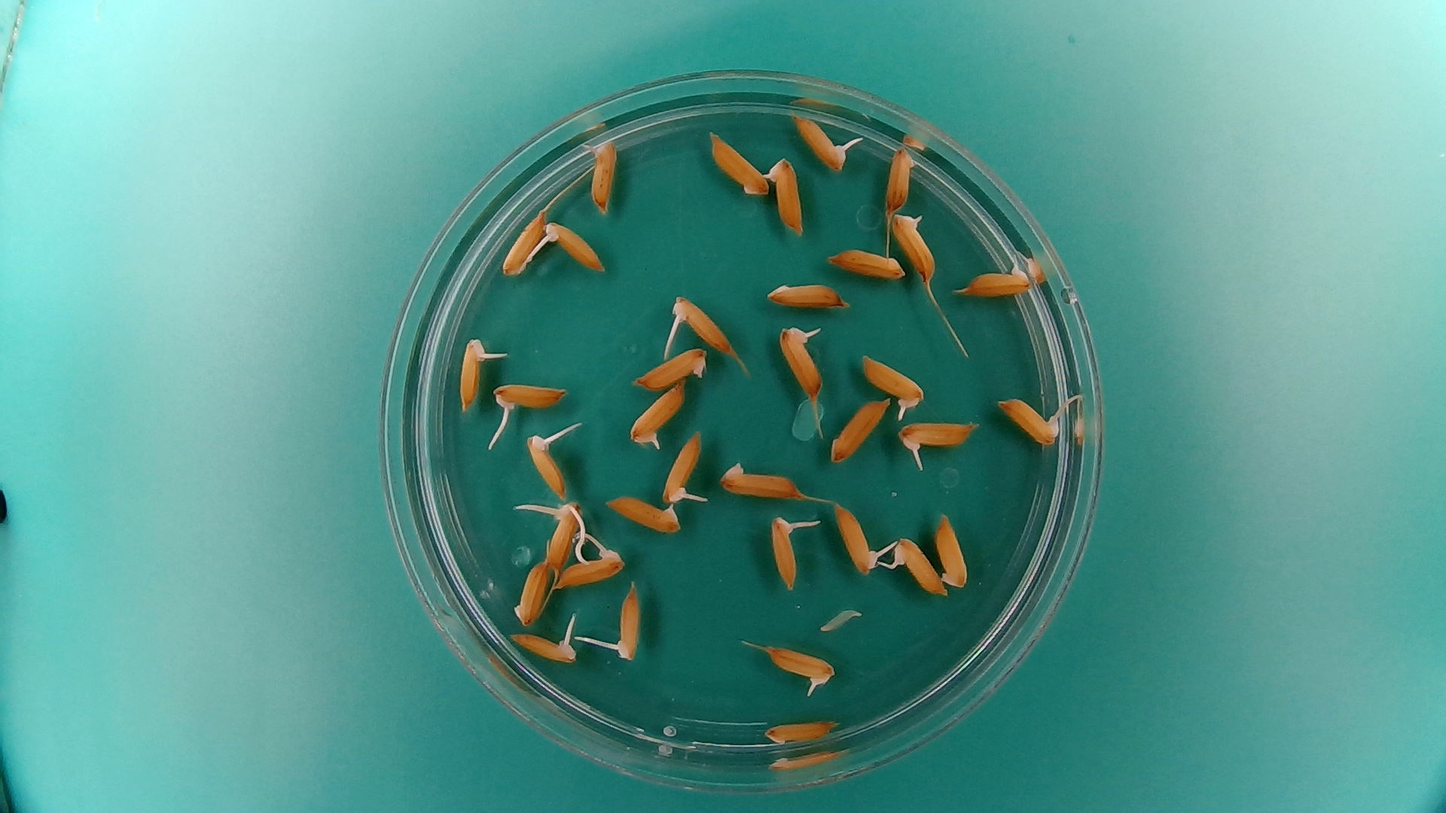no: (704, 129, 770, 199), (828, 394, 889, 465), (496, 209, 548, 279), (631, 346, 709, 392), (602, 492, 684, 534), (763, 276, 853, 311), (935, 508, 972, 589), (825, 245, 906, 282), (512, 557, 551, 629), (761, 715, 841, 750), (716, 467, 800, 500), (885, 143, 917, 214)
yes: (627, 379, 686, 449), (671, 297, 737, 355), (998, 394, 1067, 449), (791, 110, 849, 175), (889, 210, 939, 282), (778, 327, 827, 400), (889, 534, 946, 596), (543, 220, 606, 275), (763, 155, 805, 236), (832, 499, 876, 575), (859, 354, 923, 406), (954, 259, 1037, 299), (522, 434, 571, 501), (659, 432, 703, 505), (761, 642, 832, 687), (542, 505, 582, 575), (554, 548, 622, 589), (456, 335, 491, 414), (895, 419, 977, 452), (769, 515, 804, 592), (587, 133, 619, 216), (613, 581, 645, 660), (493, 380, 569, 411), (508, 634, 579, 664)
